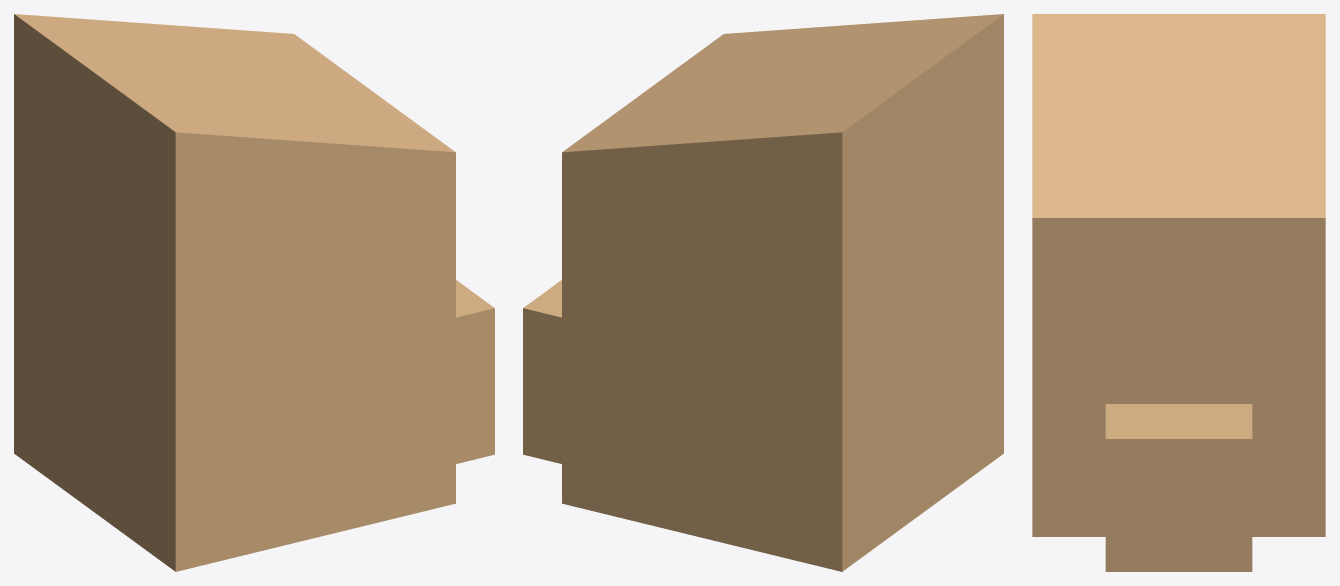
Rendered from building-5.glb.
The picture shows the model from 3 angles, left to right: view 1: azimuth 30°, elevation 25°; view 2: azimuth 150°, elevation 25°; view 3: azimuth 270°, elevation 25°; orthographic projection. The views are drawn at different scales.
Visible parts, largest first — view 1: Plane; view 2: Plane; view 3: Plane.
Part boxes in pixels (<box>): Plane: <box>14,14,494,571</box>; Plane: <box>523,14,1003,571</box>; Plane: <box>1032,14,1325,571</box>.
Bounding box in the file's own units: 5.13 × 6 × 4.
